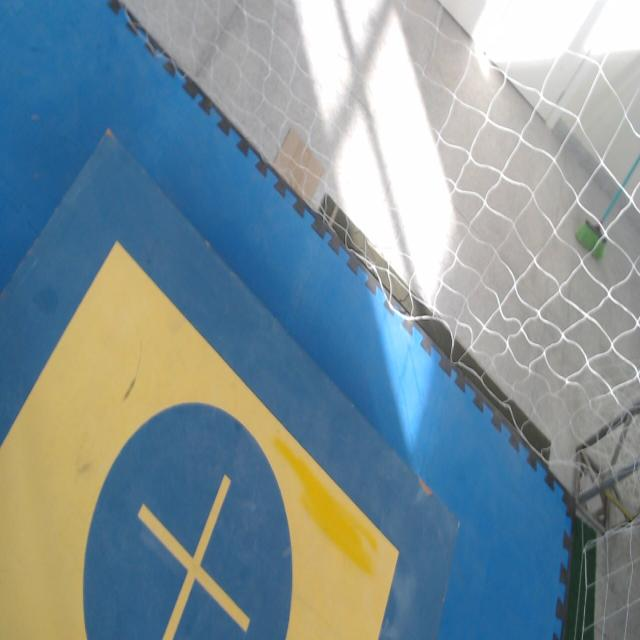base_inicio: (0, 242, 400, 639)
